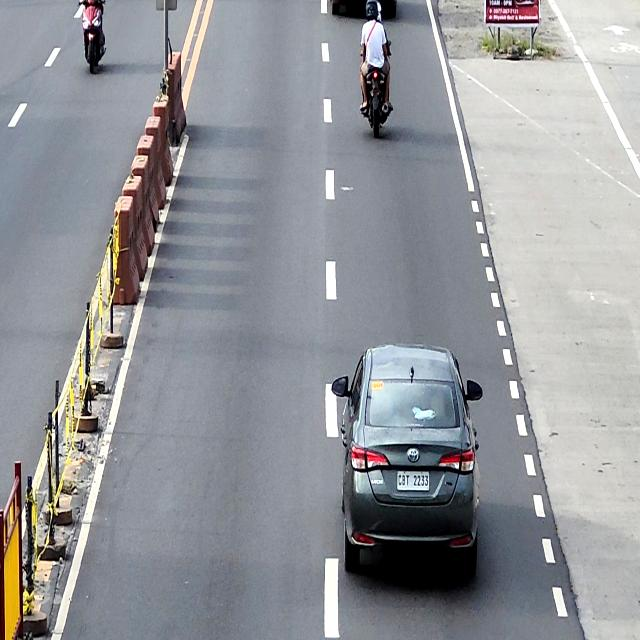Car: (331, 343, 483, 576)
License-Plate: (395, 468, 431, 492)
Motorcycle: (359, 40, 393, 139), (77, 0, 106, 74)
